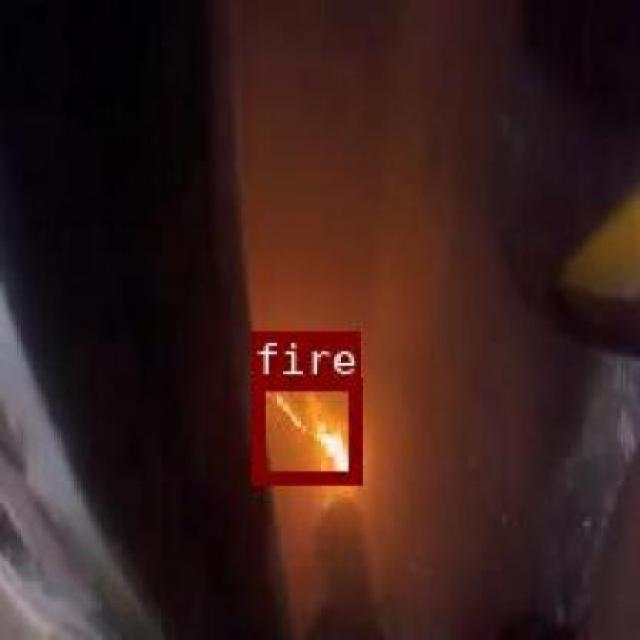Fire: (250, 376, 358, 481)
